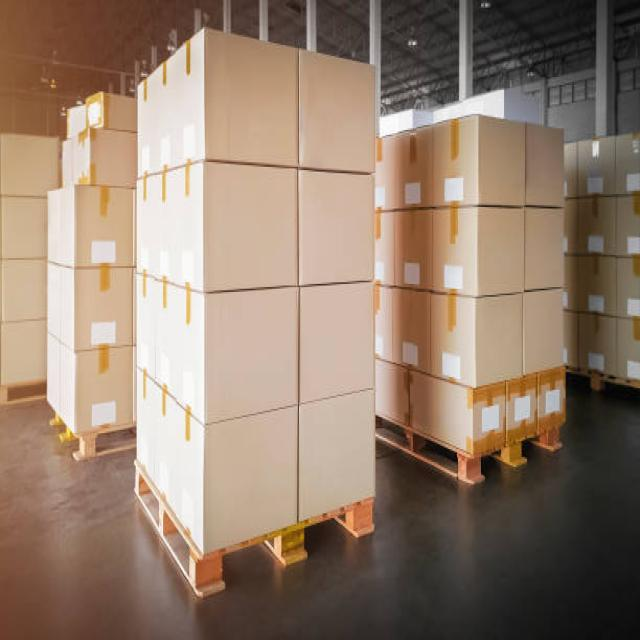Wooden-Pallets: (129, 455, 375, 599), (376, 411, 565, 484)
